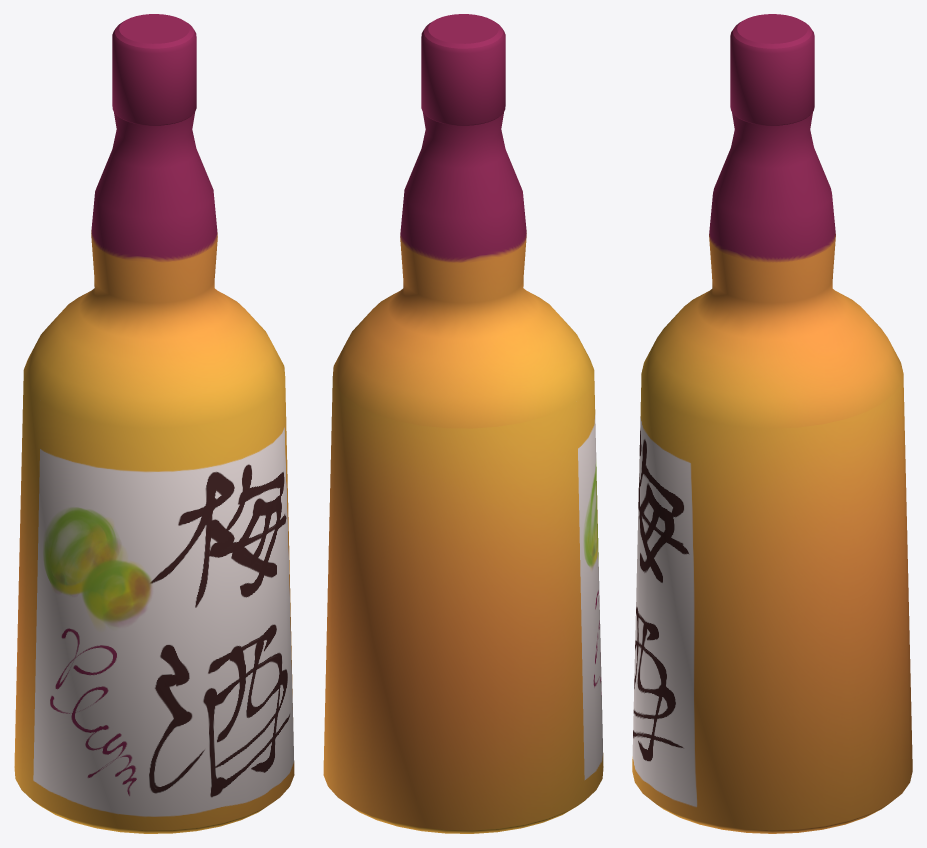
Rendered from Plumwine.obj.
3 renders of one model, left to right at view 1: azimuth 30°, elevation 25°; view 2: azimuth 150°, elevation 25°; view 3: azimuth 270°, elevation 25°, orthographic.
Visible parts, largest first — view 1: Plumwine; view 2: Plumwine; view 3: Plumwine.
Boxes of the visible parts, x1,y1,x2,y2 form: Plumwine: (14, 14, 294, 833); Plumwine: (323, 14, 603, 833); Plumwine: (632, 14, 912, 833).
Size of the model in its own units: 0.2948 by 0.869 by 0.2948.
Materials: 1 (1 with a texture image).
